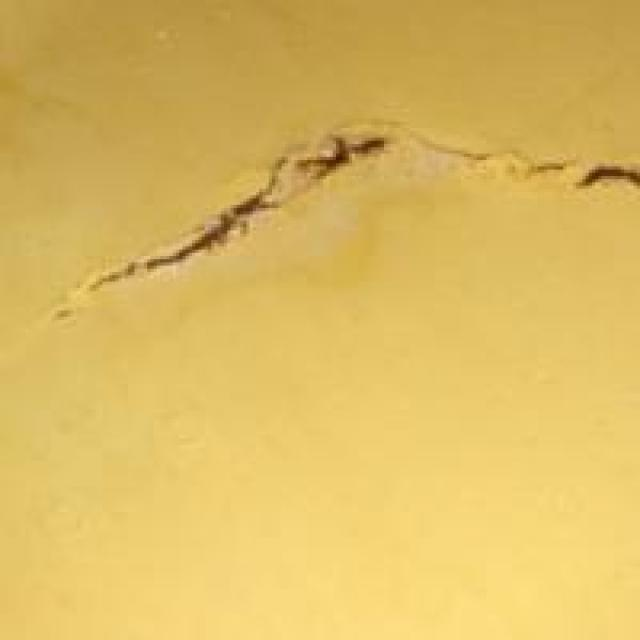crack: (70, 80, 637, 371)
